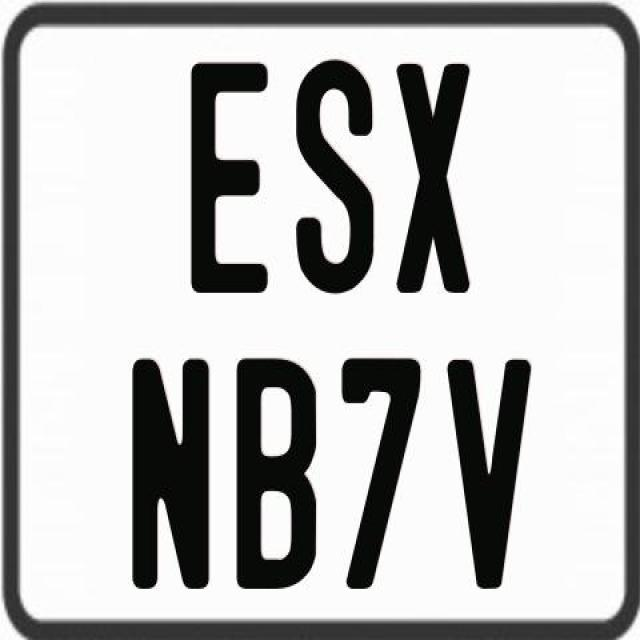7: (341, 357, 428, 590)
B: (234, 355, 318, 592)
E: (187, 59, 266, 294)
N: (132, 358, 211, 592)
S: (296, 56, 374, 298)
V: (444, 360, 530, 592)
X: (394, 61, 470, 290)
